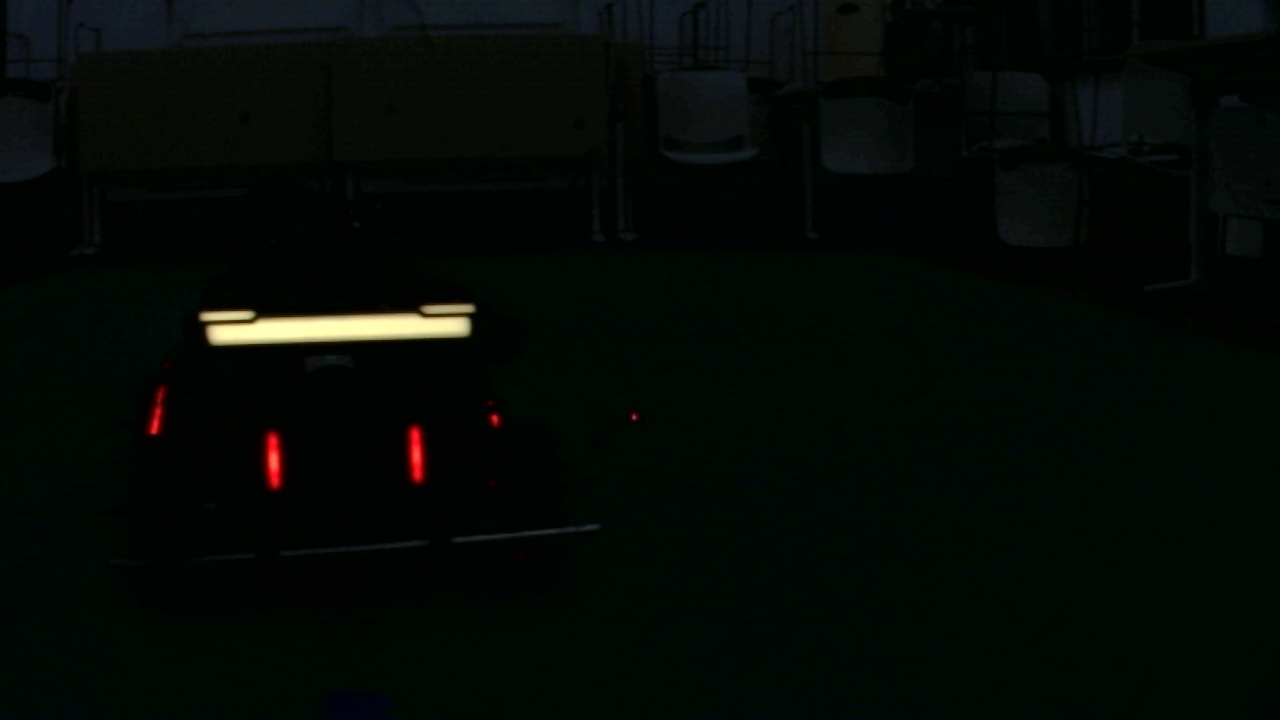lamp: (265, 425, 284, 489), (406, 425, 424, 488)
pair1: (265, 426, 422, 490)
